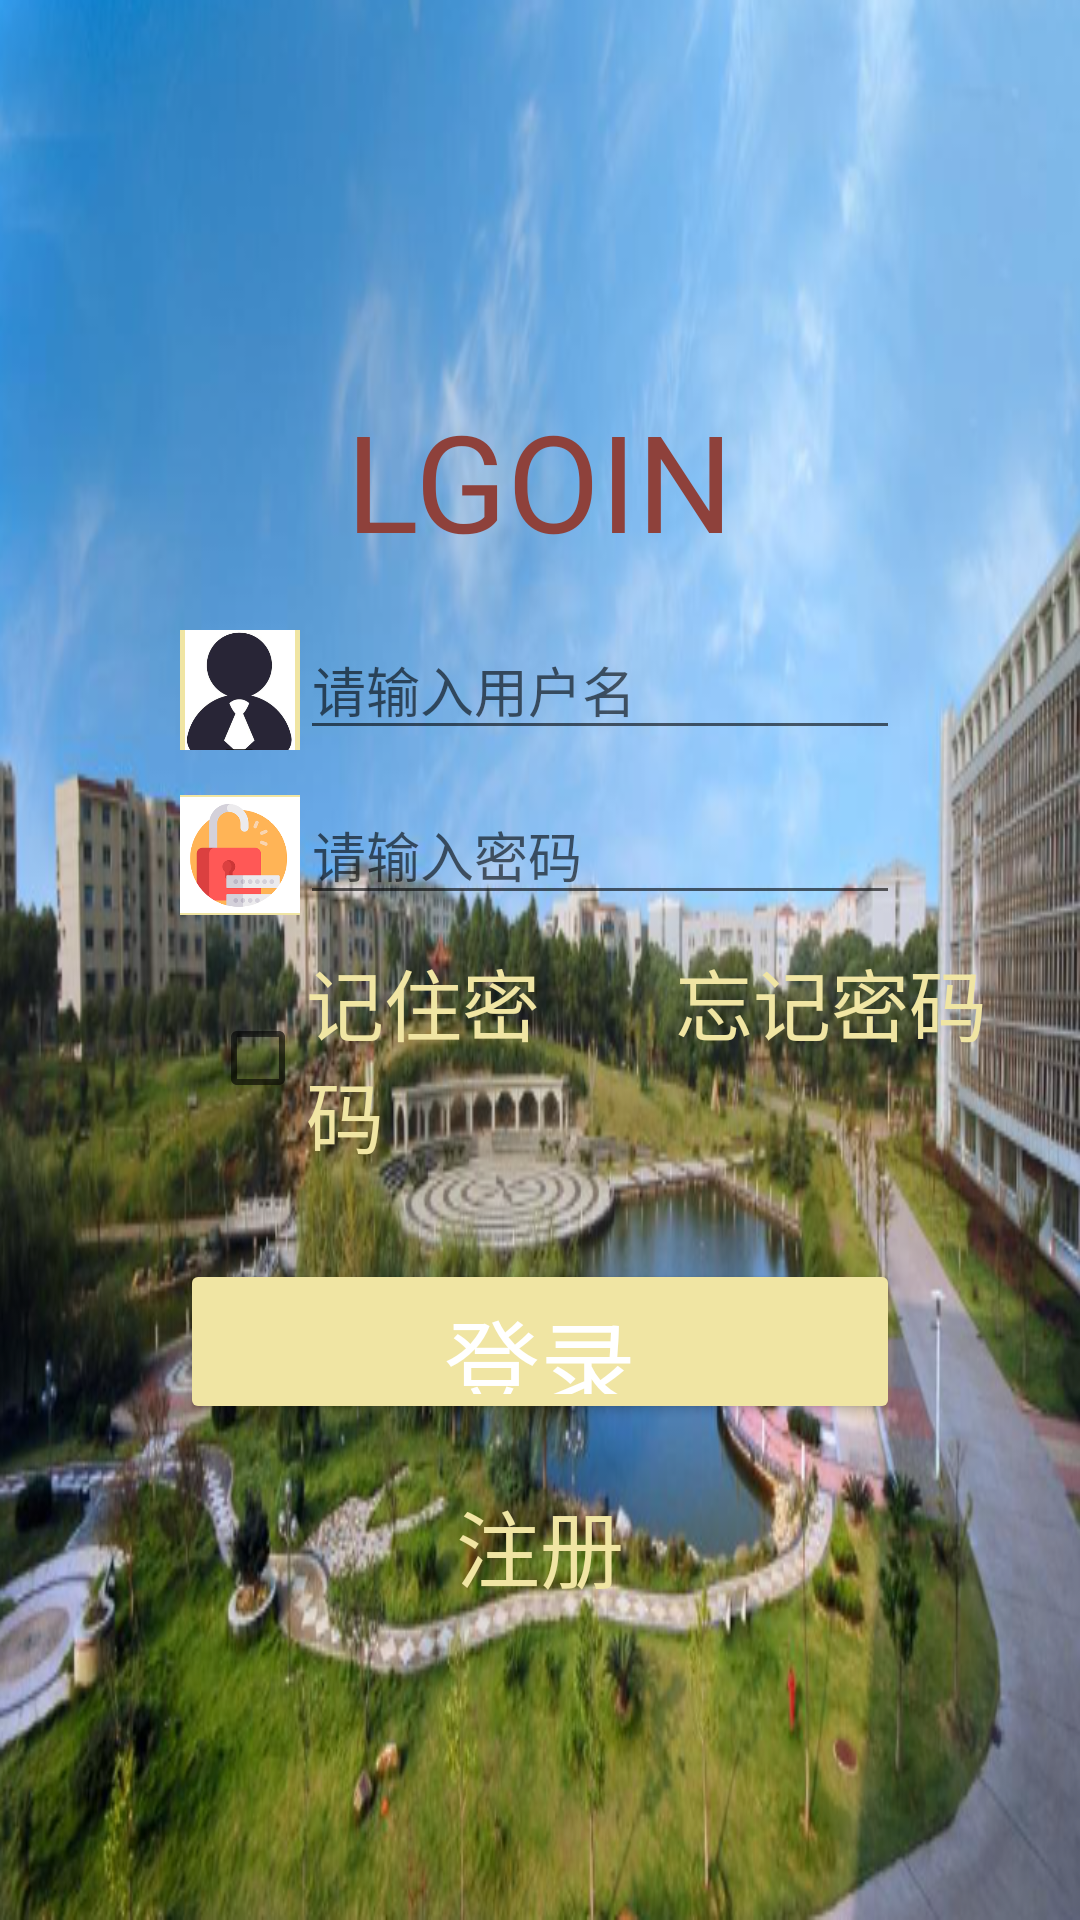

Where to tap for icons on this 1080w x 1920h app screen, as (x,y):
mima: (240,855)
zhanghao: (240,690)
